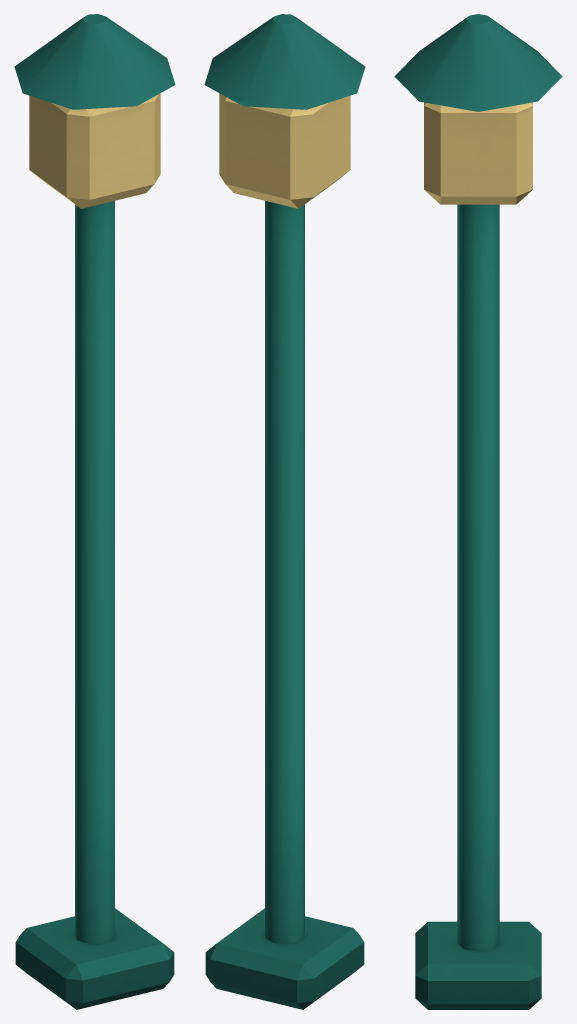
File: lantern_post.glb
3 views of the same model, side by side, from view 1: azimuth 30°, elevation 25°; view 2: azimuth 150°, elevation 25°; view 3: azimuth 270°, elevation 25° (orthographic).
Visible parts, largest first — view 1: lantern_post; view 2: lantern_post; view 3: lantern_post.
Boxes of the visible parts, bbox=[...] form: lantern_post: bbox=[14, 14, 175, 1009]; lantern_post: bbox=[204, 14, 365, 1009]; lantern_post: bbox=[394, 14, 562, 1009].
Bounding box in the file's own units: 0.4 × 2.55 × 0.4.
Materials: 1 (1 with a texture image).
